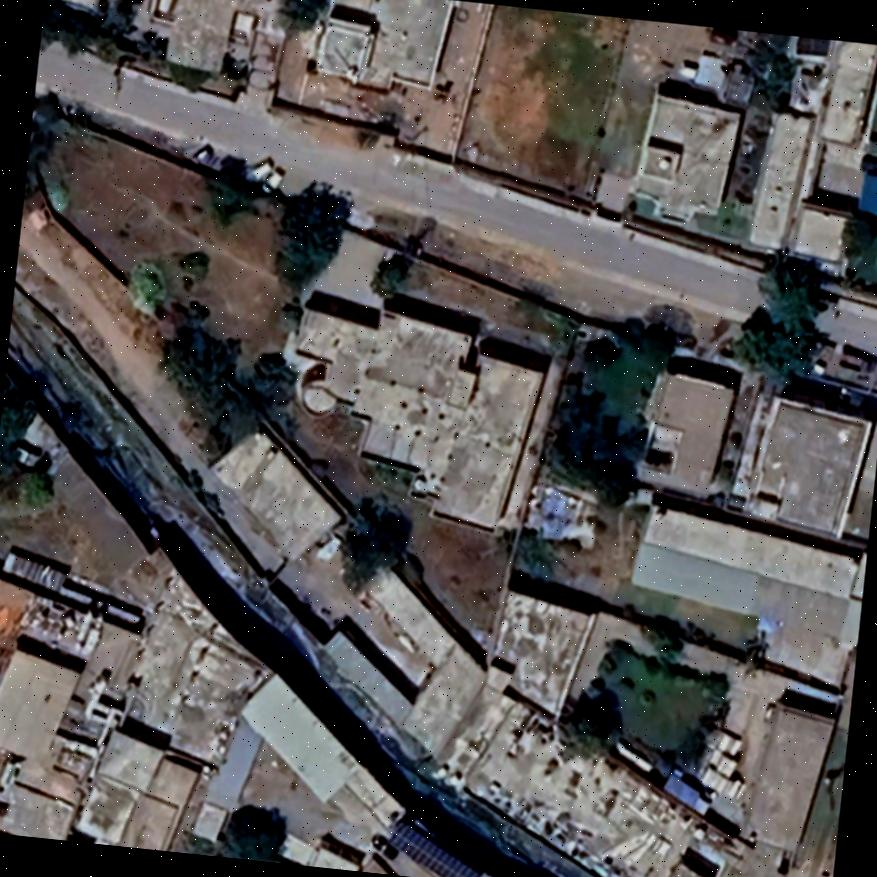Solarpanel: (382, 811, 488, 877)
